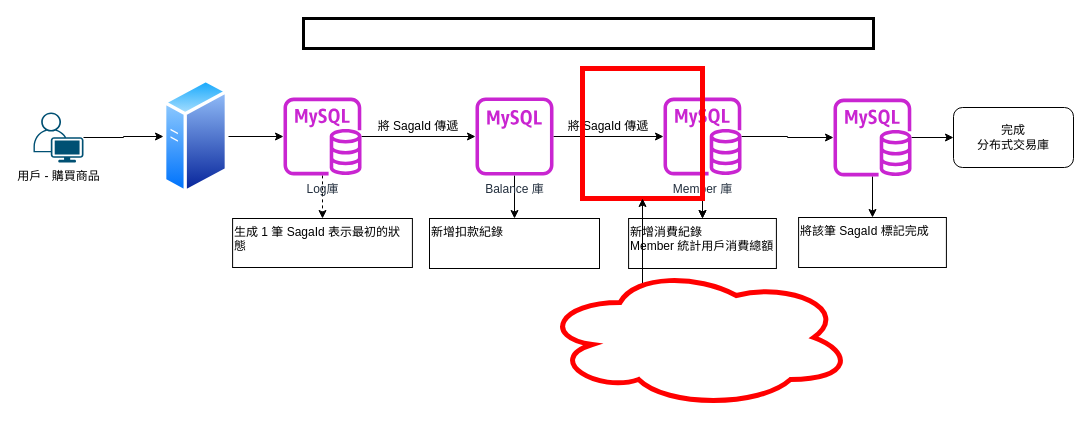
This 1091x427 diagram has some shape labels left out. Each missing label, with the centre of its shape:
Log 庫: point 872,137
後台伺服器: point 195,136
扣款 後( Balance )，新增消費紀錄時異常(Member) 因為有真正扣款，因此需要將後續的 消費紀錄、用戶消費統計補齊: point 697,337
購物平台 - 用戶購物 - 異常點 - 新增消費紀錄前: point 588,33
